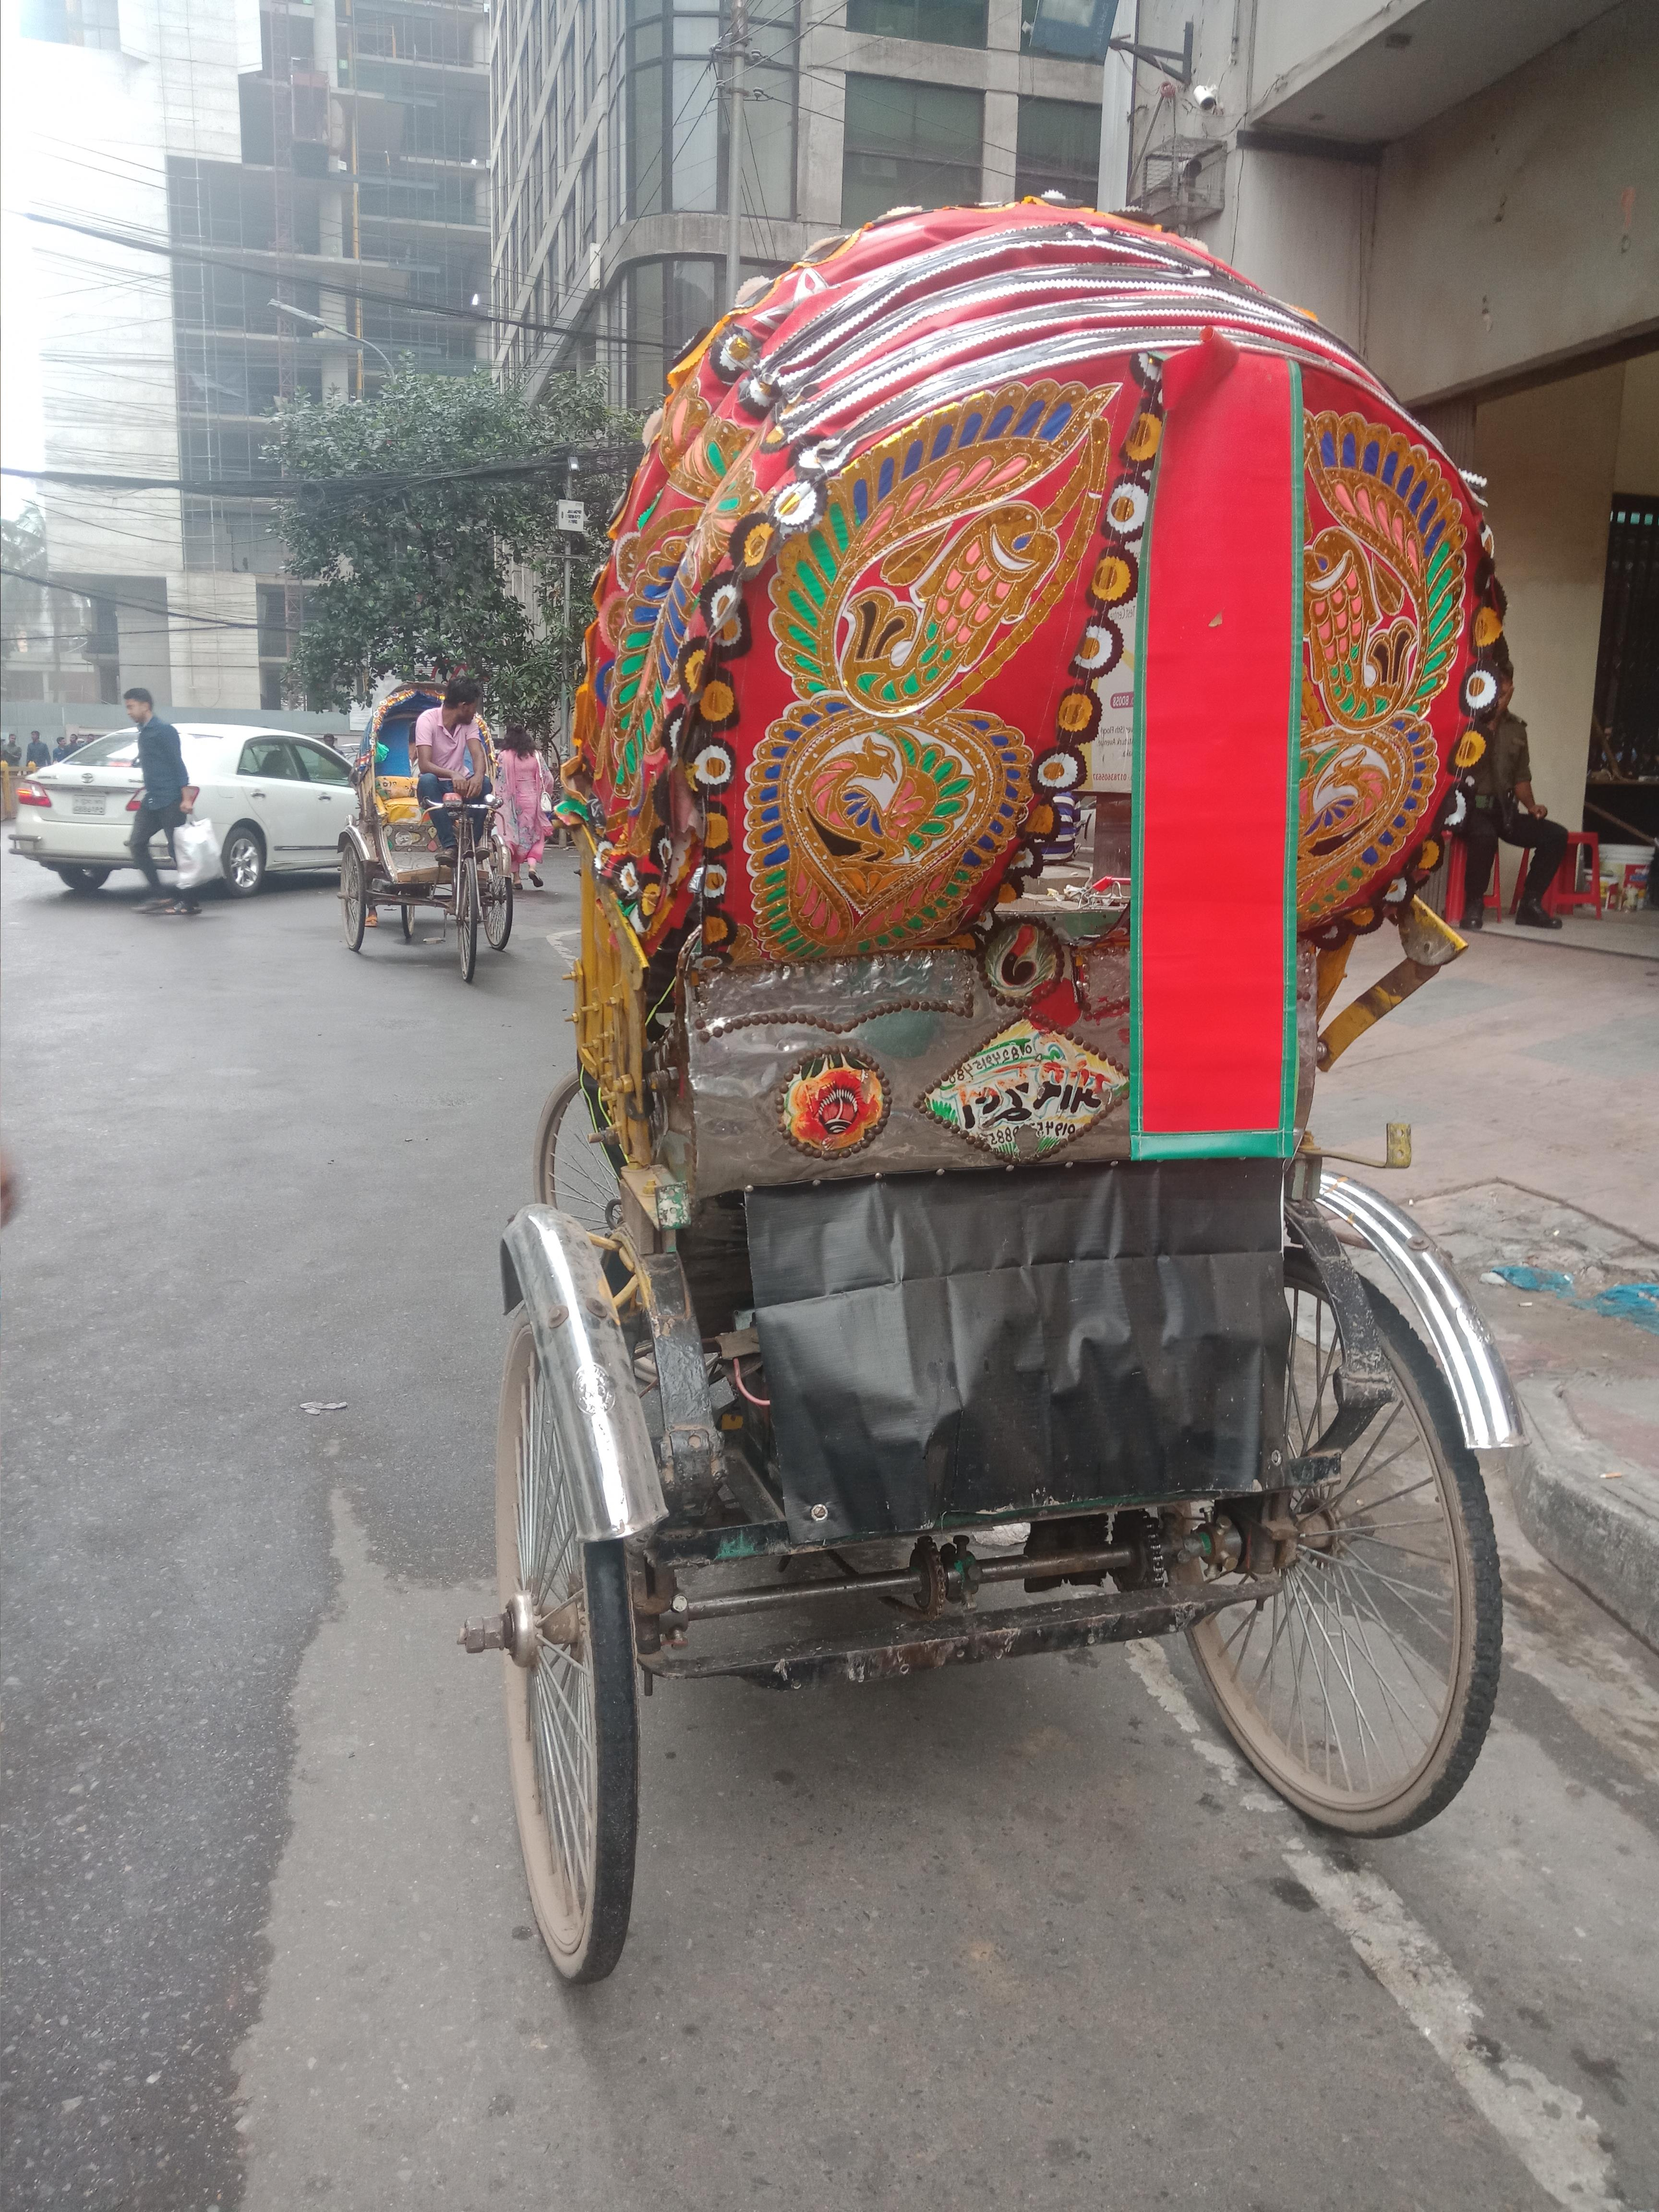Rickshaw: (481, 190, 1540, 1785), (317, 636, 519, 1001)
